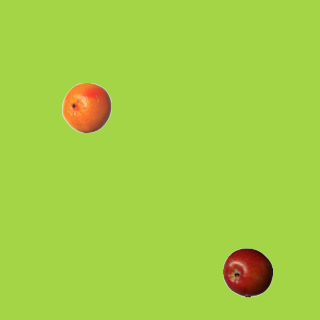Apple Braeburn: (222, 247, 272, 297)
Grapefruit Pink: (61, 82, 111, 132)
